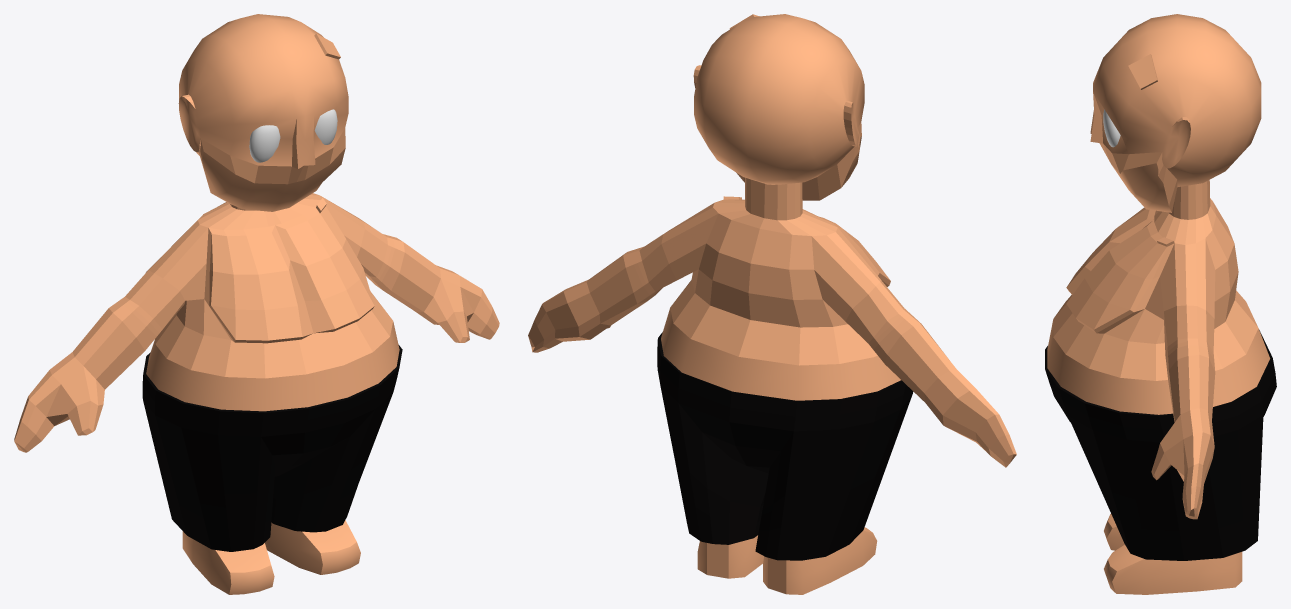
The model's file is Colosal.fbx.
3 views of the same model, side by side, from view 1: azimuth 30°, elevation 25°; view 2: azimuth 150°, elevation 25°; view 3: azimuth 270°, elevation 25° (orthographic).
Visible parts, largest first — view 1: Cylinder003; view 2: Cylinder003; view 3: Cylinder003.
Boxes of the visible parts, x1,y1,x2,y2 form: Cylinder003: (14,14,499,594); Cylinder003: (528,14,1016,594); Cylinder003: (1045,14,1276,594).
Bounding box in the file's own units: 105 × 110 × 43.05.
